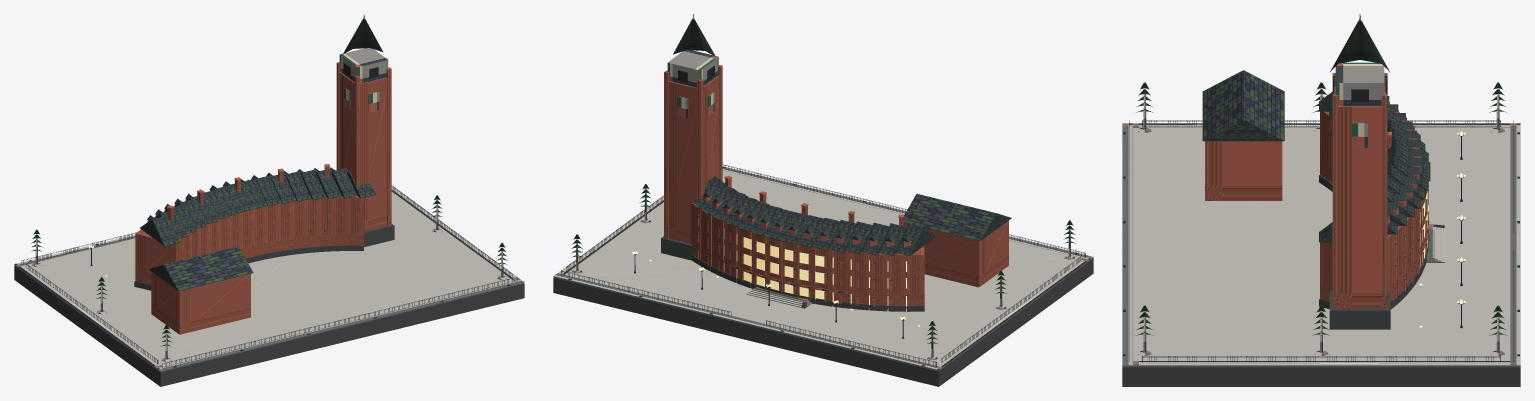
File: ultra_lm_04_truong_cdsp_dalat.glb
3 renders of one model, left to right at view 1: azimuth 30°, elevation 25°; view 2: azimuth 150°, elevation 25°; view 3: azimuth 270°, elevation 25°, orthographic. The views are drawn at different scales.
Parts seen in each view (by area): view 1: Mesh_CDSP_Yersin_GraniteCurb_WormBrick_And_Courtyard, Mesh_CDSP_Toulouse_RedBrick_CurvedArcade, Mesh_CDSP_Ardoise_SlateRoof_Dormers_And_Spire, Mesh_CDSP_Copernicus_Minus3p5m_SplitStone_Skirt, Mesh_CDSP_WroughtIron_Balcony_5GlobeLamps_And_DrainGrates, Mesh_CDSP_CreamArchTrim_And_Pinewood_LouverShutters, Mesh_CDSP_Pine_And_Hydrangea_Courtyard; view 2: Mesh_CDSP_Yersin_GraniteCurb_WormBrick_And_Courtyard, Mesh_CDSP_Toulouse_RedBrick_CurvedArcade, Mesh_CDSP_Copernicus_Minus3p5m_SplitStone_Skirt, Mesh_CDSP_Ardoise_SlateRoof_Dormers_And_Spire, Mesh_CDSP_CreamArchTrim_And_Pinewood_LouverShutters, Mesh_CDSP_WroughtIron_Balcony_5GlobeLamps_And_DrainGrates, Mesh_CDSP_Classroom_Arched_Window_Glass_Blend085, Mesh_CDSP_Pine_And_Hydrangea_Courtyard; view 3: Mesh_CDSP_Yersin_GraniteCurb_WormBrick_And_Courtyard, Mesh_CDSP_Toulouse_RedBrick_CurvedArcade, Mesh_CDSP_Ardoise_SlateRoof_Dormers_And_Spire, Mesh_CDSP_Copernicus_Minus3p5m_SplitStone_Skirt, Mesh_CDSP_CreamArchTrim_And_Pinewood_LouverShutters, Mesh_CDSP_WroughtIron_Balcony_5GlobeLamps_And_DrainGrates, Mesh_CDSP_Pine_And_Hydrangea_Courtyard.
Part boxes in pixels (left/top/right/bottom): Mesh_CDSP_Yersin_GraniteCurb_WormBrick_And_Courtyard: left=14, top=185, right=524, bottom=371; Mesh_CDSP_Toulouse_RedBrick_CurvedArcade: left=135, top=62, right=391, bottom=334; Mesh_CDSP_Ardoise_SlateRoof_Dormers_And_Spire: left=140, top=18, right=382, bottom=291; Mesh_CDSP_Copernicus_Minus3p5m_SplitStone_Skirt: left=14, top=224, right=524, bottom=386; Mesh_CDSP_WroughtIron_Balcony_5GlobeLamps_And_DrainGrates: left=21, top=14, right=517, bottom=367; Mesh_CDSP_CreamArchTrim_And_Pinewood_LouverShutters: left=147, top=48, right=388, bottom=221; Mesh_CDSP_Pine_And_Hydrangea_Courtyard: left=31, top=195, right=507, bottom=346; Mesh_CDSP_Yersin_GraniteCurb_WormBrick_And_Courtyard: left=553, top=167, right=1093, bottom=370; Mesh_CDSP_Toulouse_RedBrick_CurvedArcade: left=664, top=65, right=1008, bottom=305; Mesh_CDSP_Copernicus_Minus3p5m_SplitStone_Skirt: left=553, top=236, right=1093, bottom=386; Mesh_CDSP_Ardoise_SlateRoof_Dormers_And_Spire: left=673, top=19, right=1011, bottom=255; Mesh_CDSP_CreamArchTrim_And_Pinewood_LouverShutters: left=667, top=50, right=910, bottom=306; Mesh_CDSP_WroughtIron_Balcony_5GlobeLamps_And_DrainGrates: left=561, top=14, right=1085, bottom=366; Mesh_CDSP_Classroom_Arched_Window_Glass_Blend085: left=724, top=229, right=906, bottom=306; Mesh_CDSP_Pine_And_Hydrangea_Courtyard: left=571, top=184, right=1075, bottom=344; Mesh_CDSP_Yersin_GraniteCurb_WormBrick_And_Courtyard: left=1122, top=93, right=1520, bottom=366; Mesh_CDSP_Toulouse_RedBrick_CurvedArcade: left=1205, top=73, right=1427, bottom=309; Mesh_CDSP_Ardoise_SlateRoof_Dormers_And_Spire: left=1202, top=20, right=1430, bottom=242; Mesh_CDSP_Copernicus_Minus3p5m_SplitStone_Skirt: left=1122, top=175, right=1520, bottom=386; Mesh_CDSP_CreamArchTrim_And_Pinewood_LouverShutters: left=1335, top=62, right=1429, bottom=298; Mesh_CDSP_WroughtIron_Balcony_5GlobeLamps_And_DrainGrates: left=1123, top=14, right=1519, bottom=362; Mesh_CDSP_Pine_And_Hydrangea_Courtyard: left=1135, top=82, right=1507, bottom=335.
Size of the model in its own units: 92 by 57.5 by 64.
9 materials, 4 textured.
